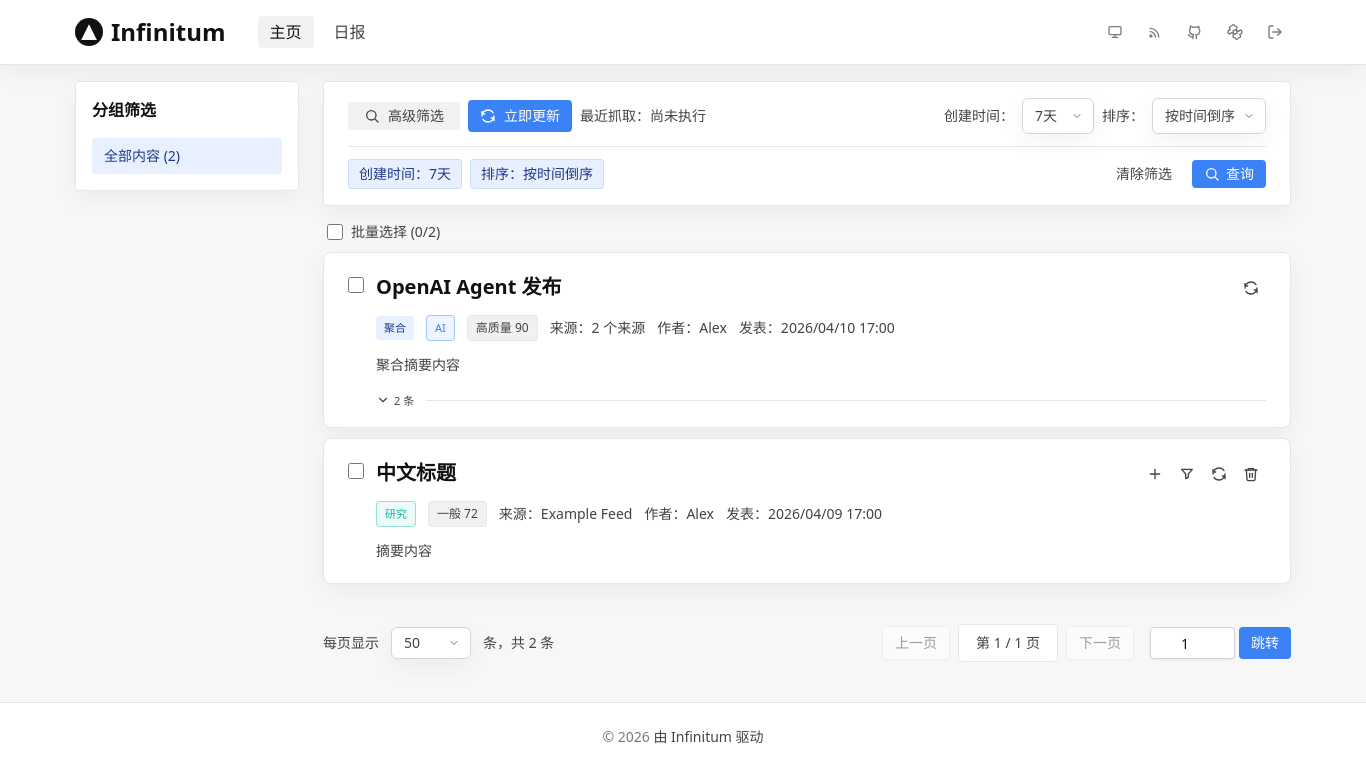
Scenario: FeedPanel › shows a confirmation dialog before manually filtering a homepage card
This screenshot has width=1366, height=768.
Click the button named "手动过滤：中文标题". click: (1187, 474)
box: [1172,459,1202,489]
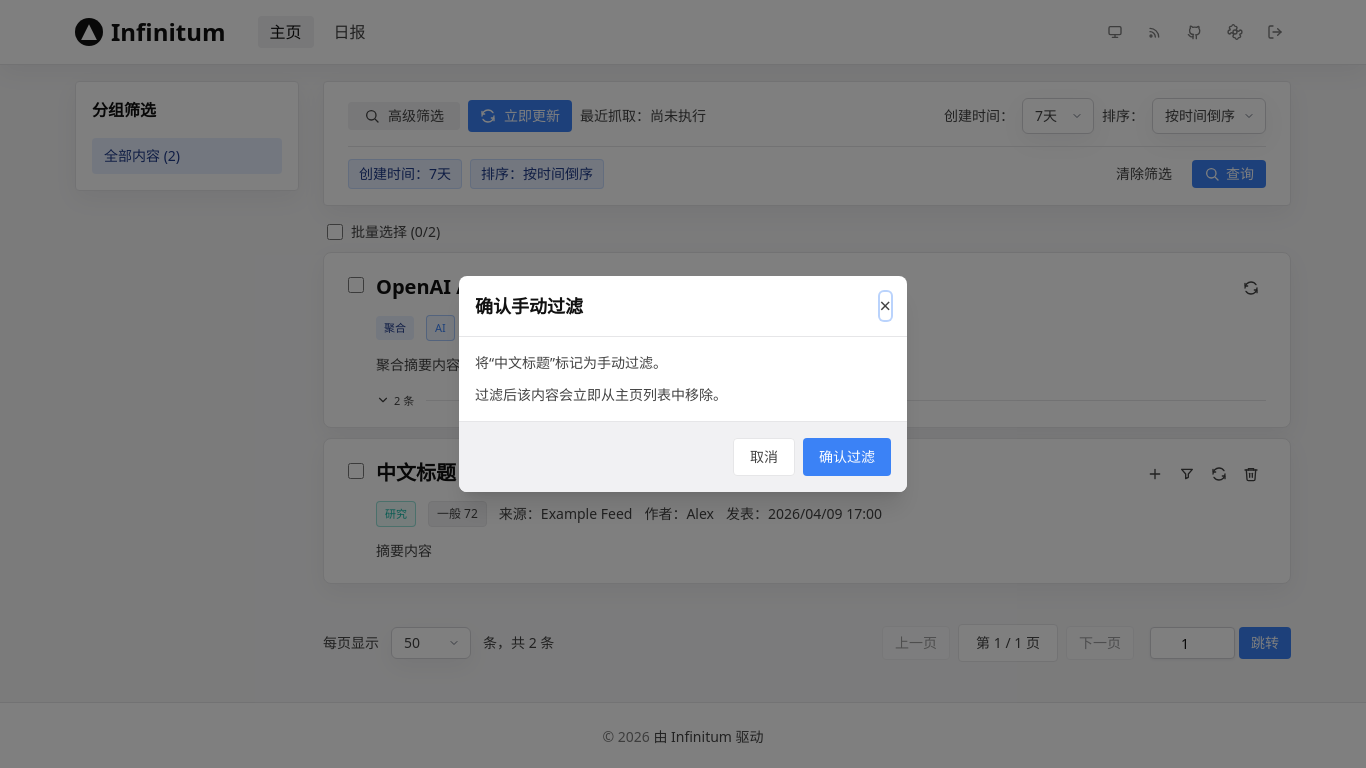
Check: the text "过滤后该内容会立即从主页列表中移除。" is shown, box [475,385,727,404]
Click the button "确认过滤". click: (847, 457)
box: [803,438,891,476]
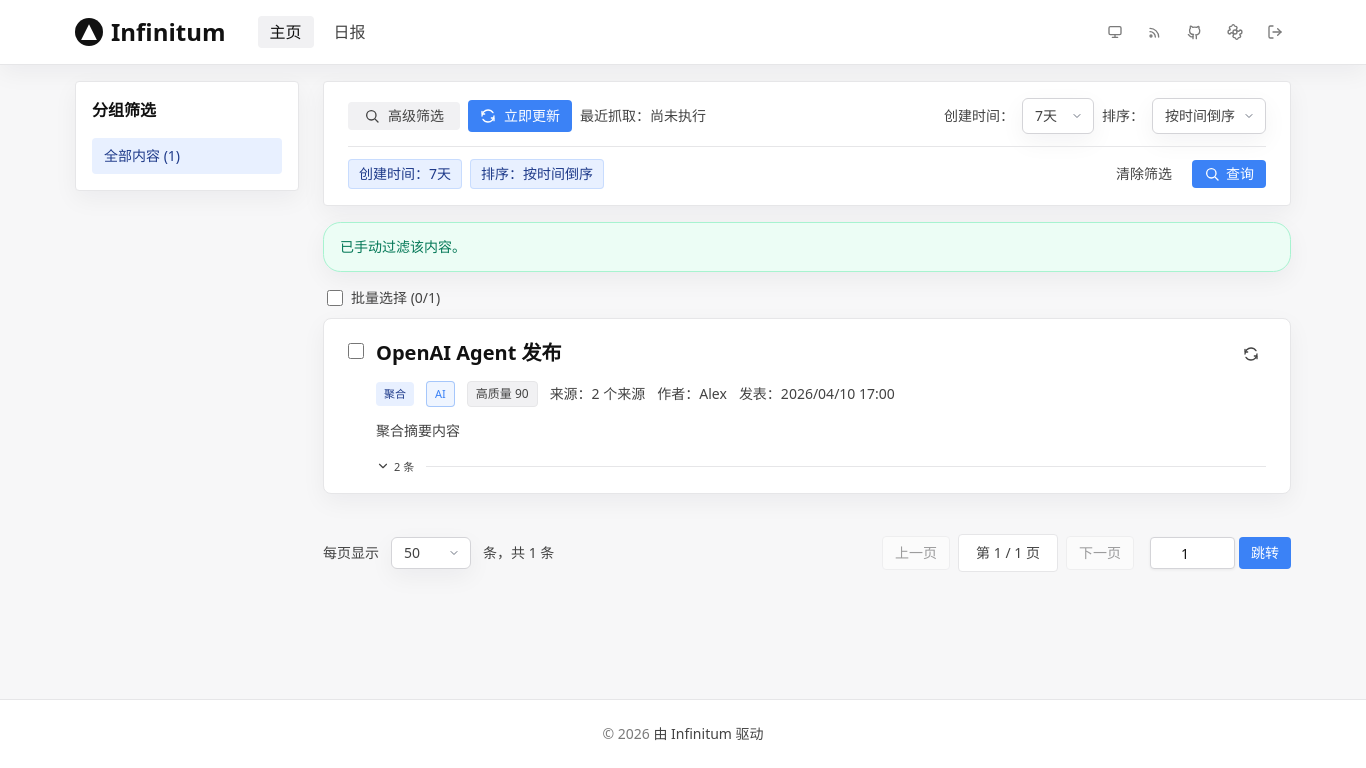
Check: the text "已手动过滤该内容。" is shown, box [323,222,1291,272]
